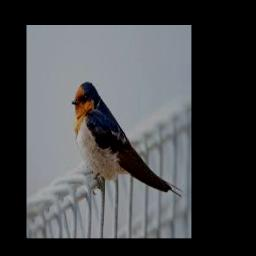Swallow: (72, 82, 182, 198)
